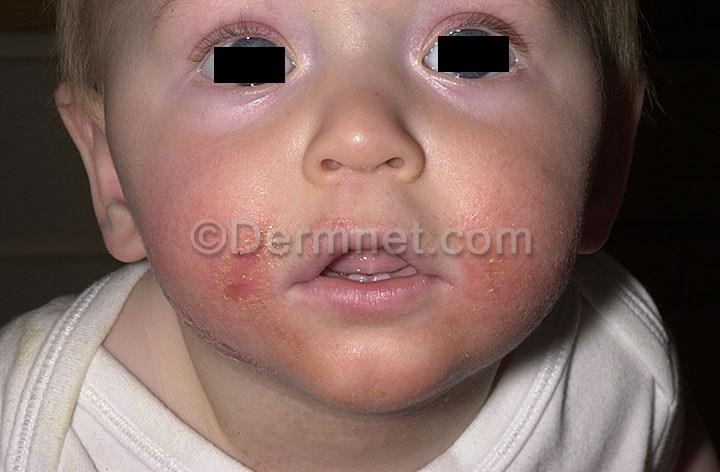eritema 1: (168, 192, 274, 328), (452, 194, 544, 321)
exudacion 1: (214, 231, 270, 311), (258, 309, 316, 364), (456, 243, 504, 300), (370, 383, 397, 399)
xerosis 1: (161, 284, 265, 376)
